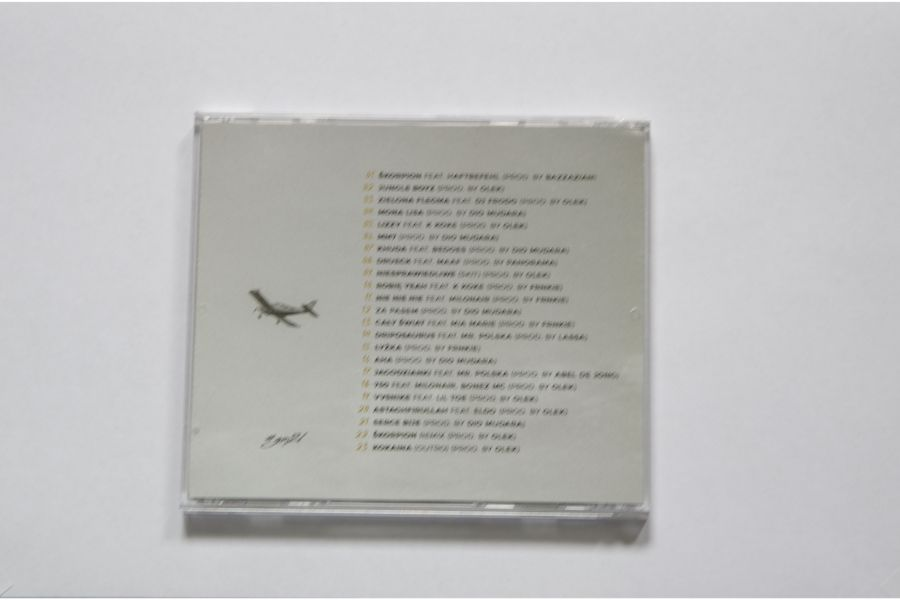album: (184, 107, 653, 514)
